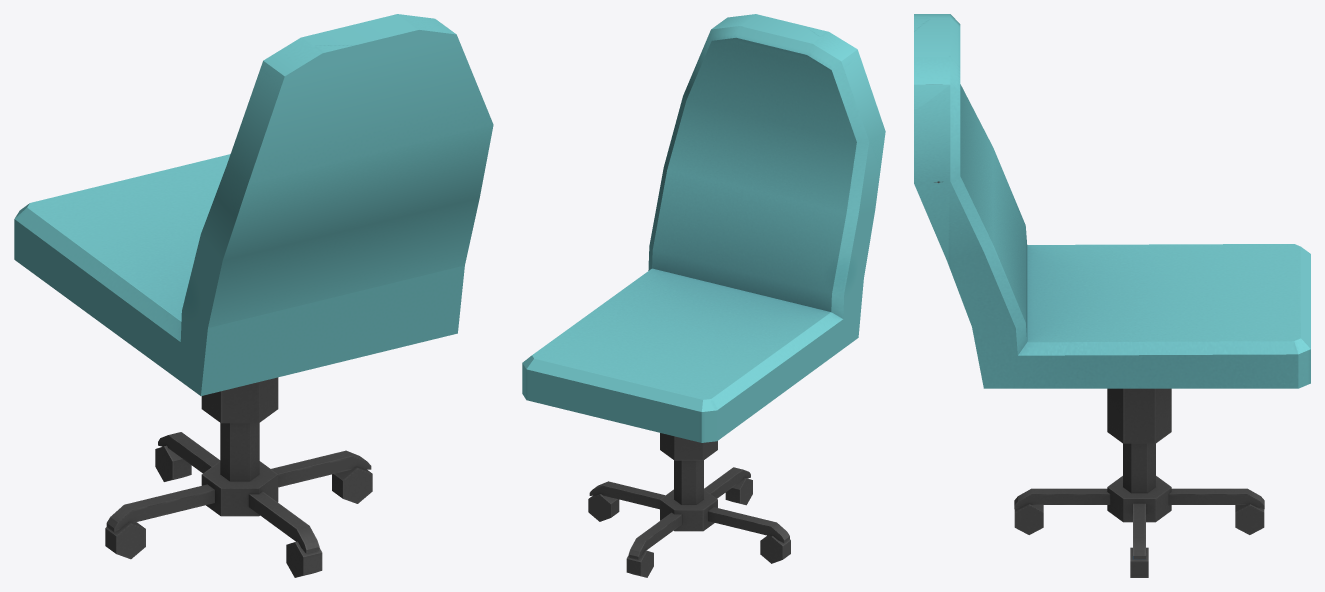
The model's file is chair02.fbx.
3 views of the same model, side by side, from view 1: azimuth 30°, elevation 25°; view 2: azimuth 150°, elevation 25°; view 3: azimuth 270°, elevation 25° (orthographic). The views are drawn at different scales.
Visible parts, largest first — view 1: polySurface75; view 2: polySurface75; view 3: polySurface75.
Boxes of the visible parts, box(x1,y1,x2,y2) form: polySurface75: box(14, 14, 493, 577); polySurface75: box(522, 14, 885, 577); polySurface75: box(914, 14, 1310, 577).
Bounding box in the file's own units: 8.91 × 19.23 × 14.03.
Materials: 1 (1 with a texture image).
